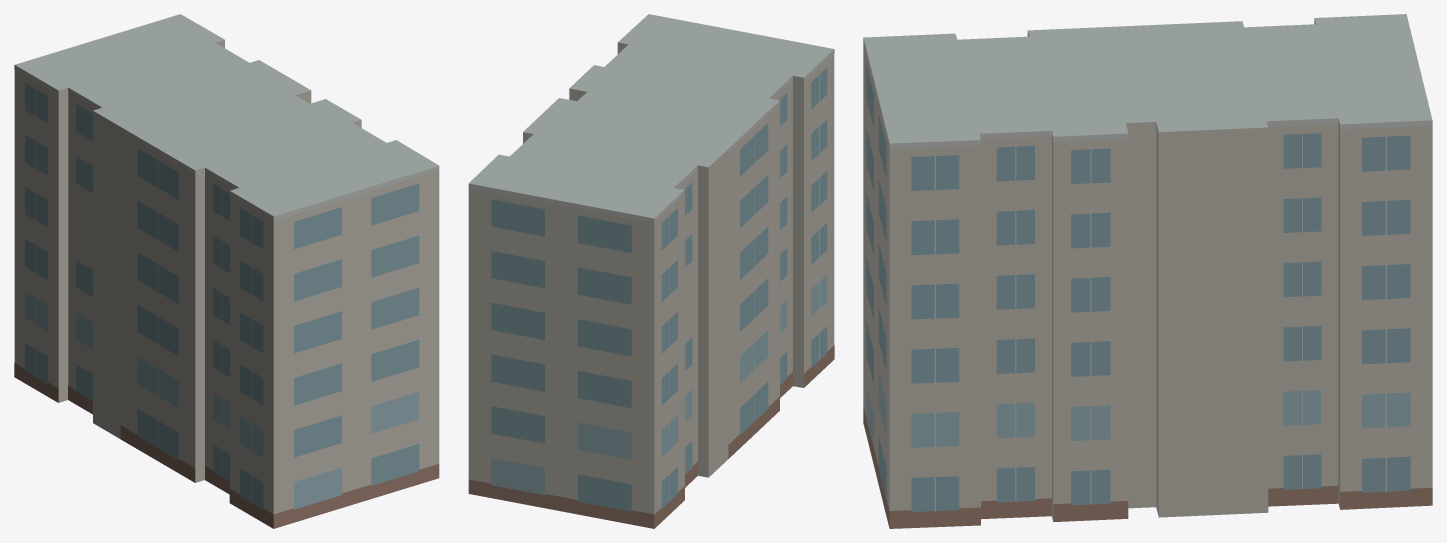
The model's file is survey-upis-33024253.glb.
The picture shows the model from 3 angles, left to right: view 1: azimuth 30°, elevation 25°; view 2: azimuth 150°, elevation 25°; view 3: azimuth 270°, elevation 25°; orthographic projection. The views are drawn at different scales.
Visible parts, largest first — view 1: survey-upis-33024253.tmp; view 2: survey-upis-33024253.tmp; view 3: survey-upis-33024253.tmp.
Boxes of the visible parts, x1,y1,x2,y2 form: survey-upis-33024253.tmp: (14,14,439,528); survey-upis-33024253.tmp: (468,14,834,528); survey-upis-33024253.tmp: (863,14,1432,528).
Bounding box in the file's own units: 12.48 × 17.3 × 23.17.
